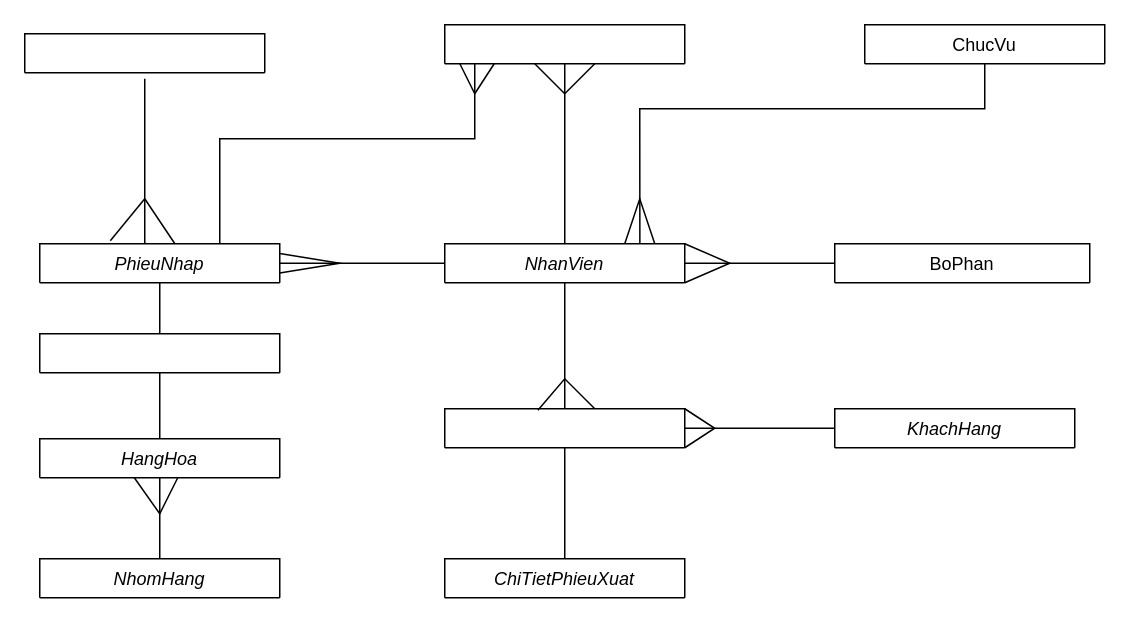
This 1130x623 diagram has some shape labels left out. The centre of each missing label's shape, as x and y in pixels:
ChiTietNhapHang: the point at 159,352
NhaCC: the point at 144,52
PhieuChi: the point at 564,43
PhieuXuat: the point at 564,427
